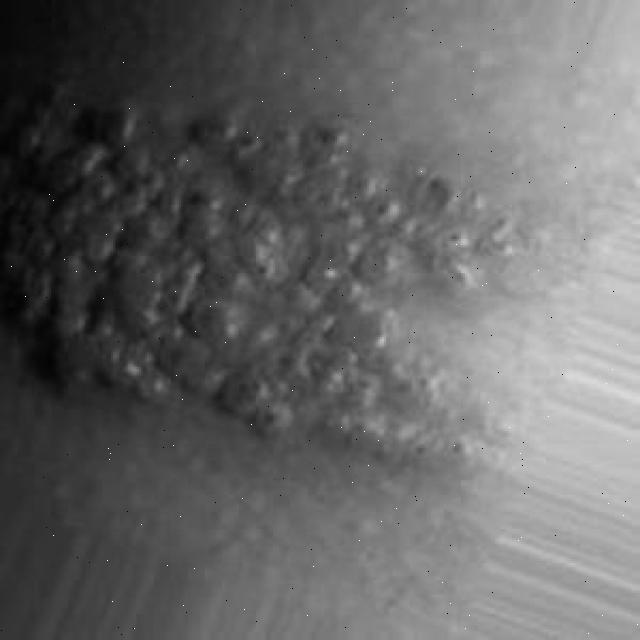Shingles: (0, 99, 562, 468)
